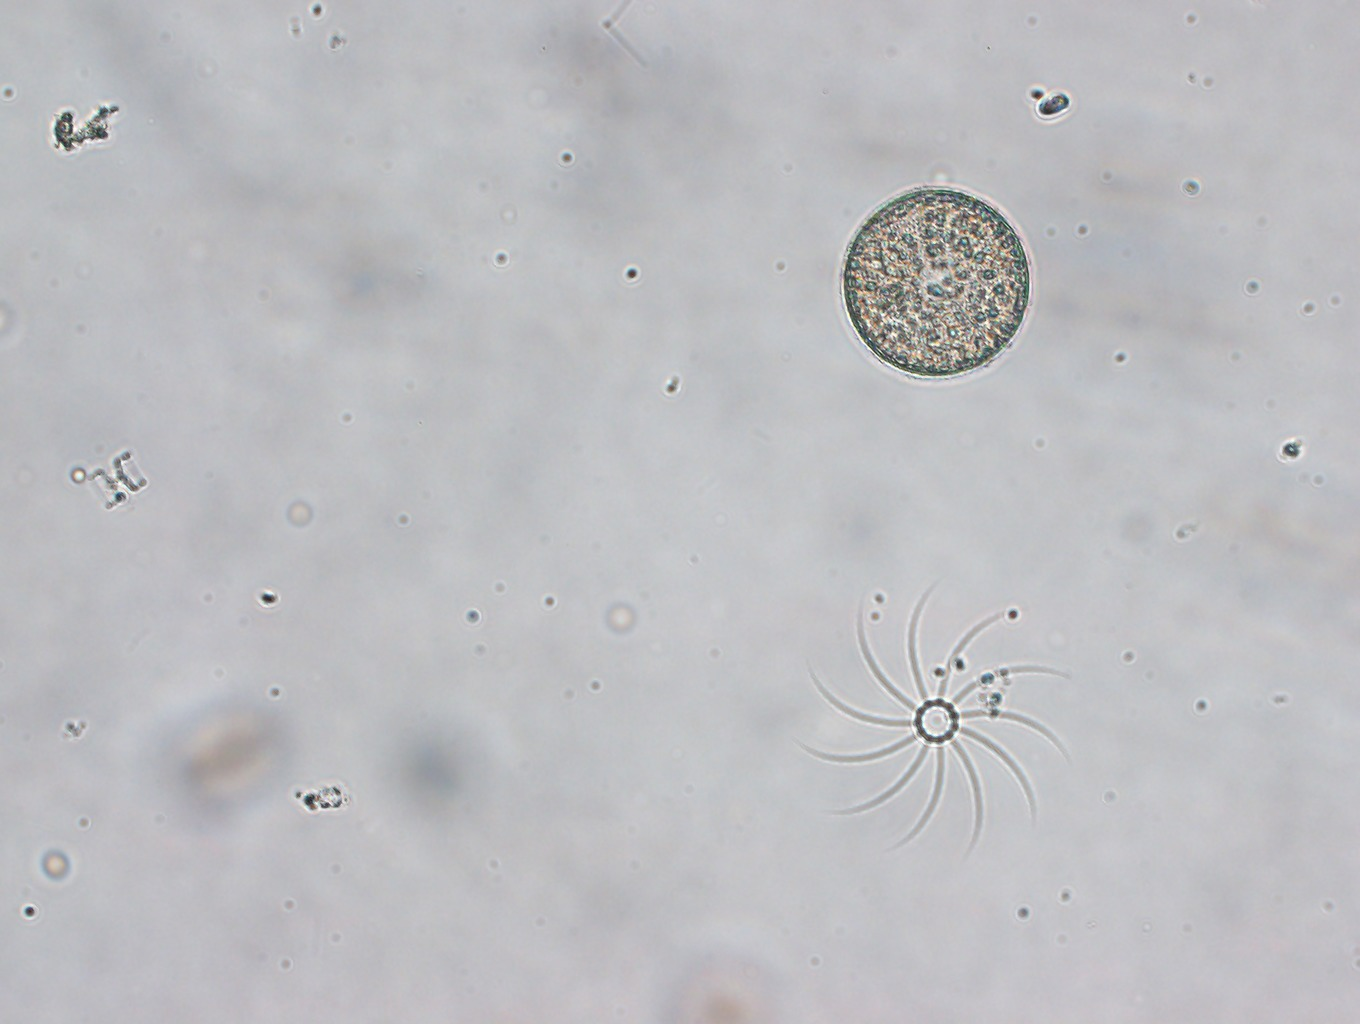bacteriastrum: (797, 577, 1074, 865)
coscinodiscus: (841, 187, 1031, 380)
